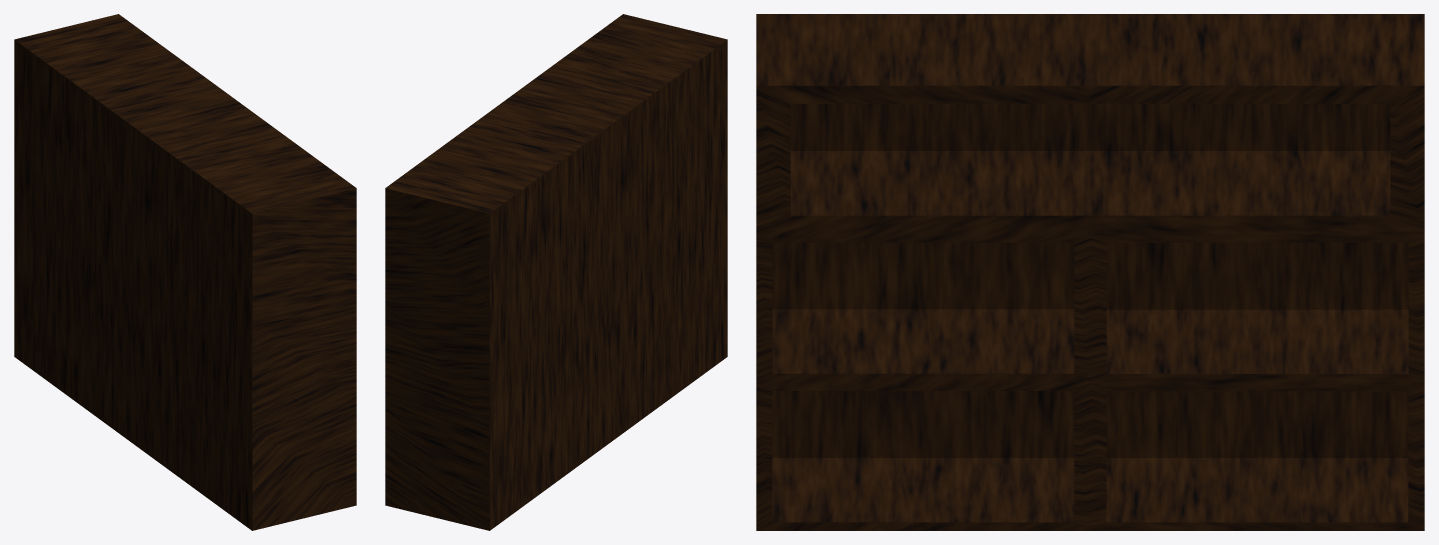
Rendered from Shelf.fbx.
The picture shows the model from 3 angles, left to right: view 1: azimuth 30°, elevation 25°; view 2: azimuth 150°, elevation 25°; view 3: azimuth 270°, elevation 25°; orthographic projection. The views are drawn at different scales.
Visible parts, largest first — view 1: Shelf; view 2: Shelf; view 3: Shelf.
Part boxes in pixels (<box>): Shelf: <box>14,14,356,530</box>; Shelf: <box>385,14,727,530</box>; Shelf: <box>756,14,1424,530</box>.
Size of the model in its own units: 200 by 580 by 789.
